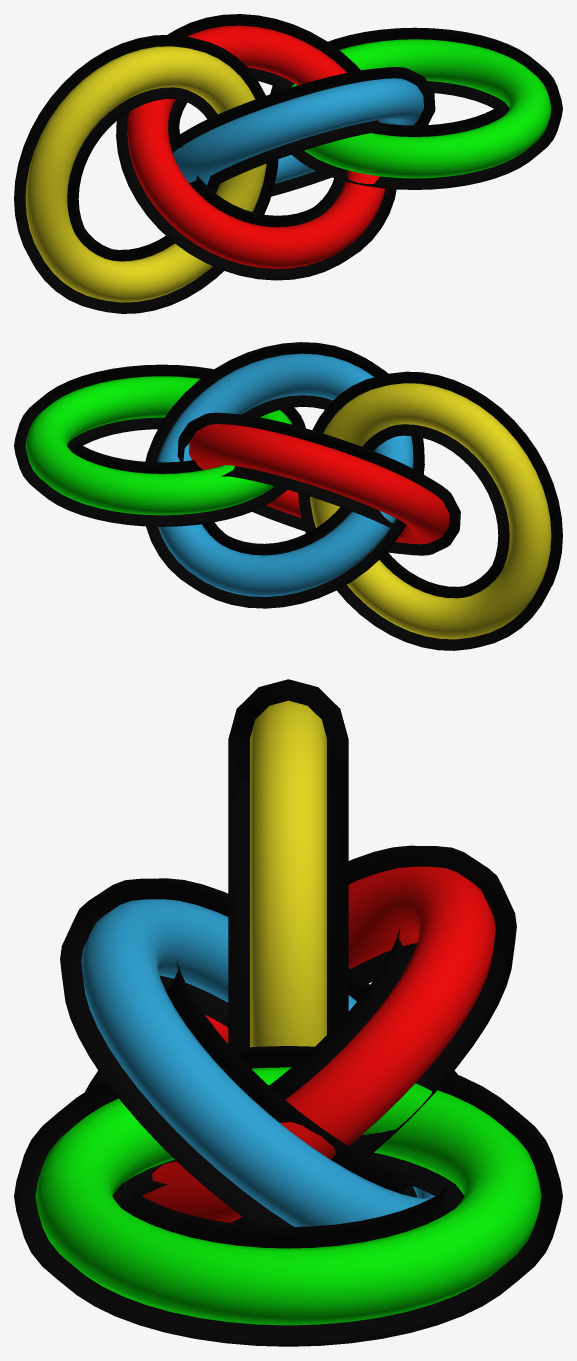
File: two_way_spiral_tutorial_04.glb
The picture shows the model from 3 angles, top to bottom: view 1: azimuth 30°, elevation 25°; view 2: azimuth 150°, elevation 25°; view 3: azimuth 270°, elevation 25°; orthographic projection. The views are drawn at different scales.
Parts seen in each view (by area): view 1: Torus.345, Torus.347, Torus.348, Torus.346; view 2: Torus.345, Torus.346, Torus.348, Torus.347; view 3: Torus.348, Torus.346, Torus.347, Torus.345.
Part boxes in pixels (bbox=[...]): Torus.345: bbox=[14, 34, 278, 313]; Torus.347: bbox=[116, 14, 396, 280]; Torus.348: bbox=[270, 27, 562, 189]; Torus.346: bbox=[169, 67, 435, 196]; Torus.345: bbox=[298, 371, 562, 650]; Torus.346: bbox=[145, 342, 424, 608]; Torus.348: bbox=[14, 364, 305, 526]; Torus.347: bbox=[177, 412, 460, 555]; Torus.348: bbox=[14, 1046, 562, 1346]; Torus.346: bbox=[60, 878, 457, 1226]; Torus.347: bbox=[85, 845, 516, 1225]; Torus.345: bbox=[228, 679, 348, 1048].
Bounding box in the file's own units: 5.24 × 2.56 × 2.56.
